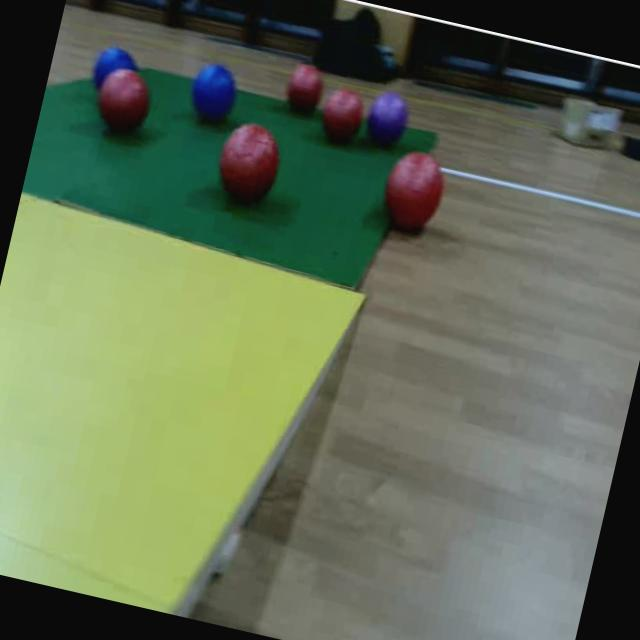blue_ball: (182, 56, 244, 128), (361, 87, 414, 151), (88, 41, 142, 98)
red_ball: (374, 144, 453, 235), (211, 118, 286, 204), (91, 63, 157, 137), (314, 82, 368, 145), (284, 59, 327, 112)
